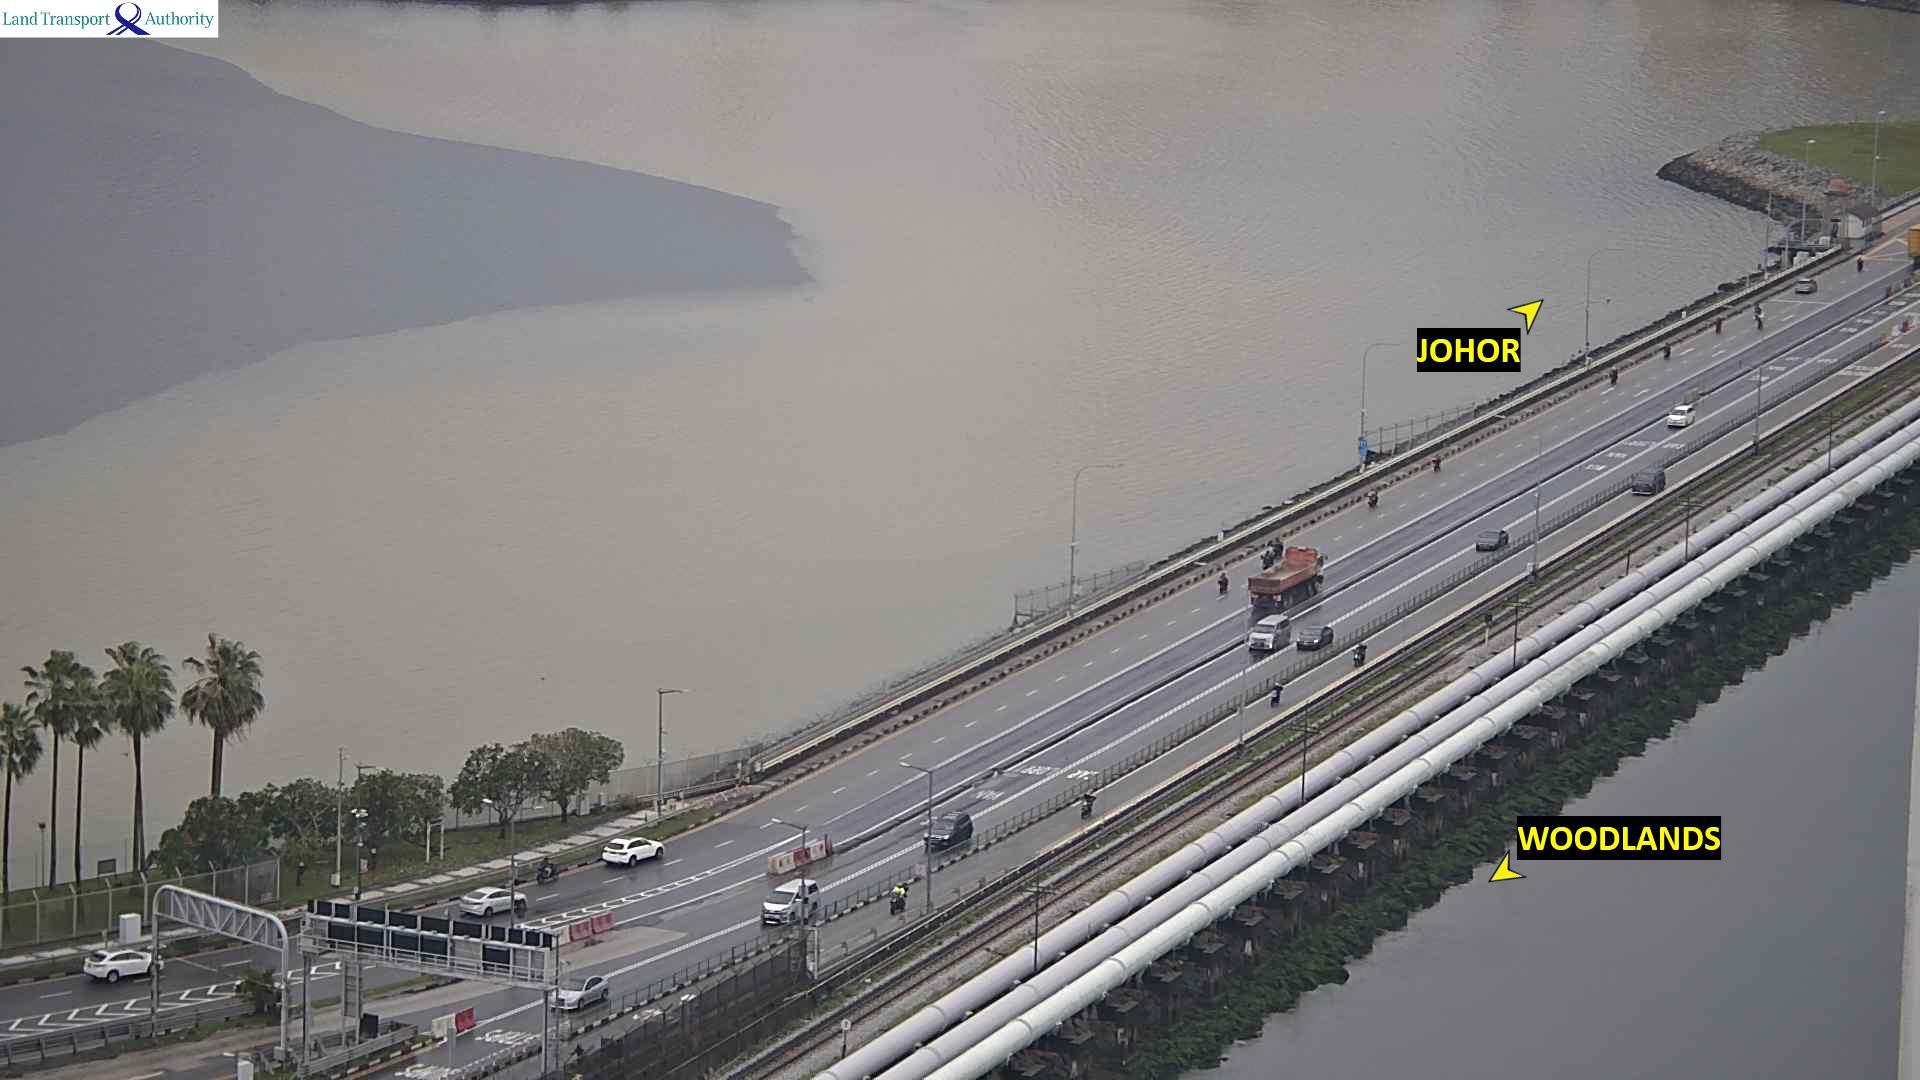vehicle-causeway-johor: (1244, 549, 1323, 613), (80, 949, 157, 984), (599, 837, 663, 868), (455, 891, 525, 918), (537, 858, 558, 882), (1796, 278, 1818, 298), (1655, 344, 1671, 364), (1215, 574, 1229, 595), (1754, 303, 1764, 324), (1432, 458, 1443, 472), (1611, 368, 1621, 382), (1367, 492, 1375, 506), (1855, 256, 1863, 269), (1713, 319, 1720, 335)
vehicle-causeway-singapore: (556, 975, 618, 1013), (765, 878, 816, 920), (928, 814, 976, 849), (1247, 615, 1288, 651), (1665, 404, 1698, 431), (1299, 625, 1333, 650), (1477, 529, 1511, 550), (1634, 468, 1663, 491), (1266, 682, 1282, 708), (891, 884, 909, 907), (1350, 644, 1366, 666), (1081, 791, 1097, 812)
